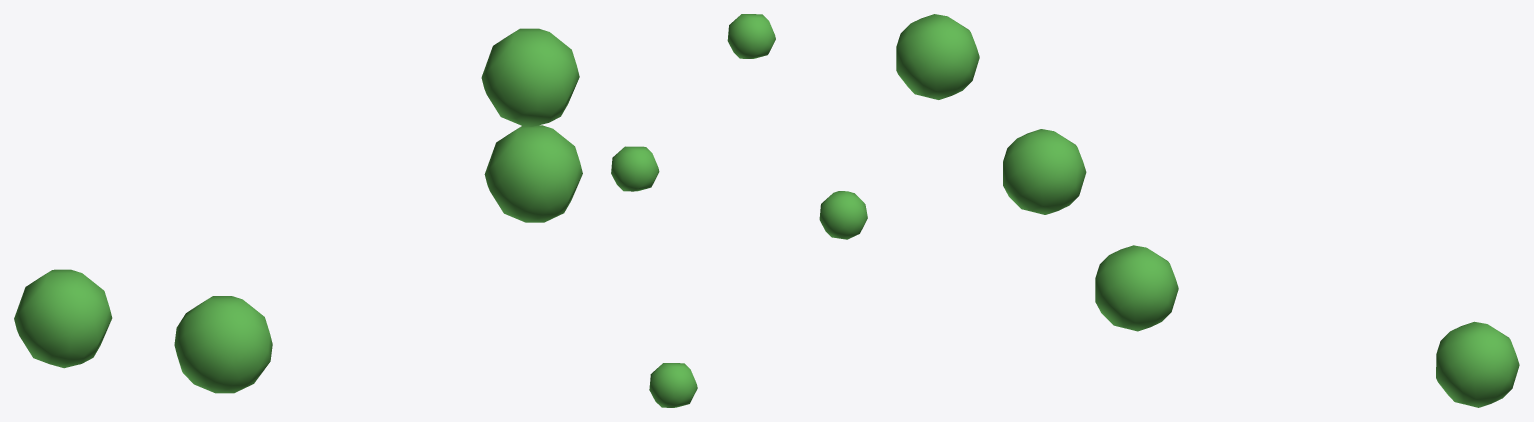
Rendered from linfatico-inferior-gluteal-nodes-r.glb.
3 renders of one model, left to right at view 1: azimuth 30°, elevation 25°; view 2: azimuth 150°, elevation 25°; view 3: azimuth 270°, elevation 25°, orthographic. The views are drawn at different scales.
Parts seen in each view (by area): view 1: Inferior gluteal nodes.r; view 2: Inferior gluteal nodes.r; view 3: Inferior gluteal nodes.r.
Part boxes in pixels (<box>): Inferior gluteal nodes.r: <box>14,28,582,393</box>; Inferior gluteal nodes.r: <box>611,14,867,407</box>; Inferior gluteal nodes.r: <box>896,14,1519,407</box>.
Bounding box in the file's own units: 0.0135 × 0.0149 × 0.0188.
